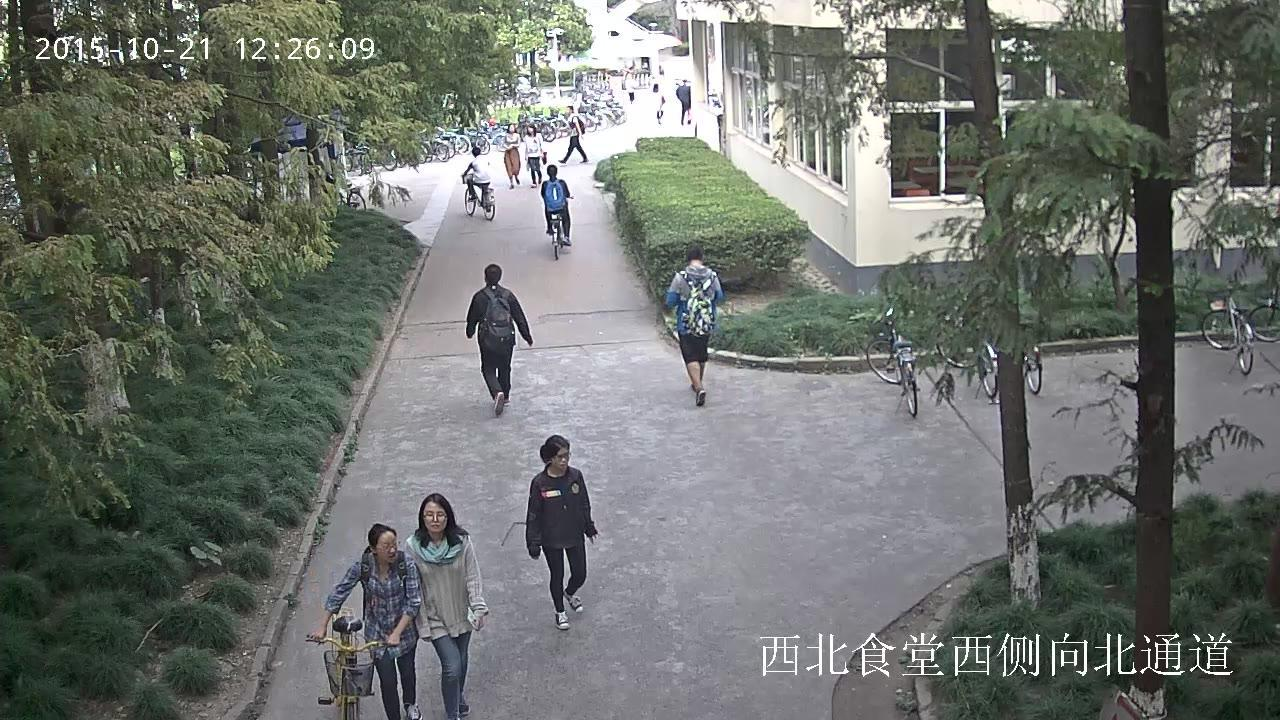person: (305, 521, 425, 720), (312, 523, 423, 720), (405, 493, 488, 719), (524, 434, 600, 630), (465, 262, 532, 414), (665, 244, 722, 406), (540, 164, 572, 259), (460, 146, 495, 219), (541, 164, 571, 245), (557, 105, 589, 163), (461, 147, 490, 201), (524, 123, 544, 189), (502, 124, 521, 189), (676, 78, 690, 125), (651, 82, 665, 122), (624, 73, 635, 102)
